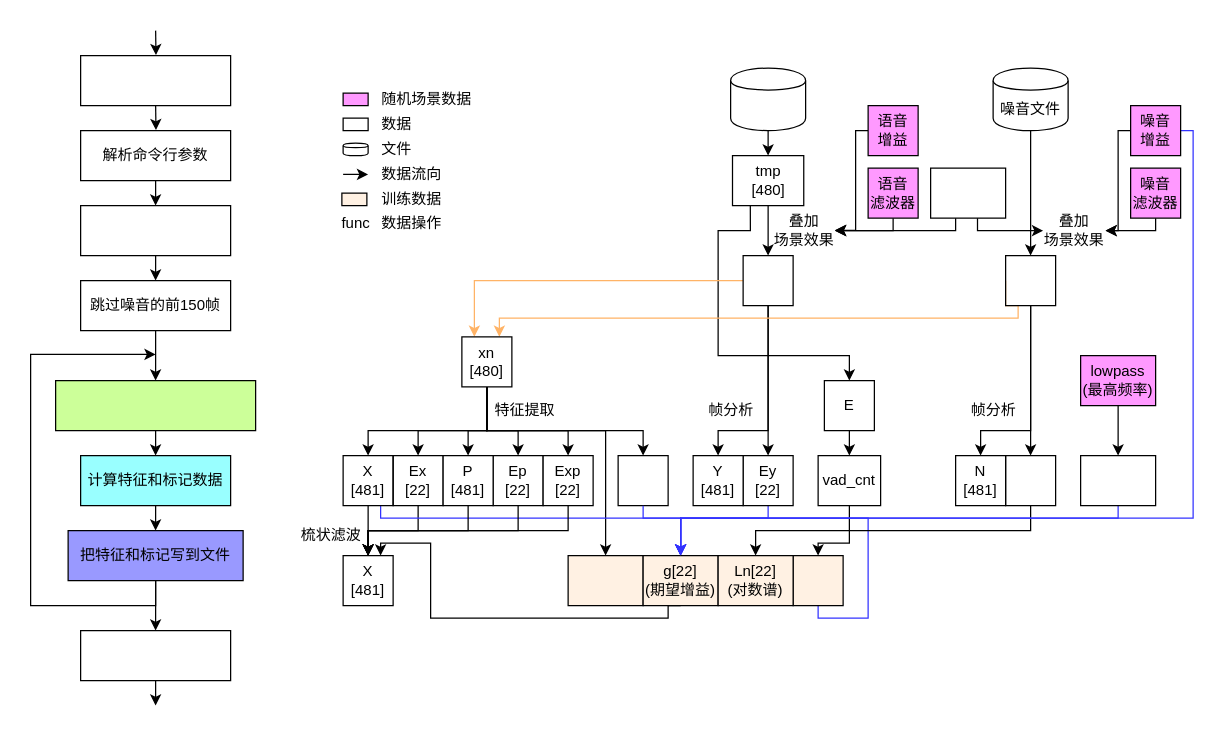
Image size: 1225x738. Some labels were removed from this diagram. The shapes that lost their labels are listed below. From the top down, each one's box as (x1, y1, x2, y2) in pixels, then its label:
(79, 54, 231, 106): 初始化对象
(729, 67, 806, 131): 语音文件
(929, 167, 1006, 218): 高通滤 波器
(79, 204, 231, 256): 打开文件
(742, 254, 793, 306): x [480]
(1004, 254, 1056, 306): n [480]
(54, 379, 256, 431): 随机生成场景参数, 每2821轮执行一次
(617, 454, 668, 506): 静音 标记
(1004, 454, 1056, 506): En [22]
(1079, 454, 1156, 506): band_lp (低通带号)
(567, 554, 643, 606): 特征 [42]
(792, 554, 843, 606): vad
(79, 629, 231, 681): 关闭文件
